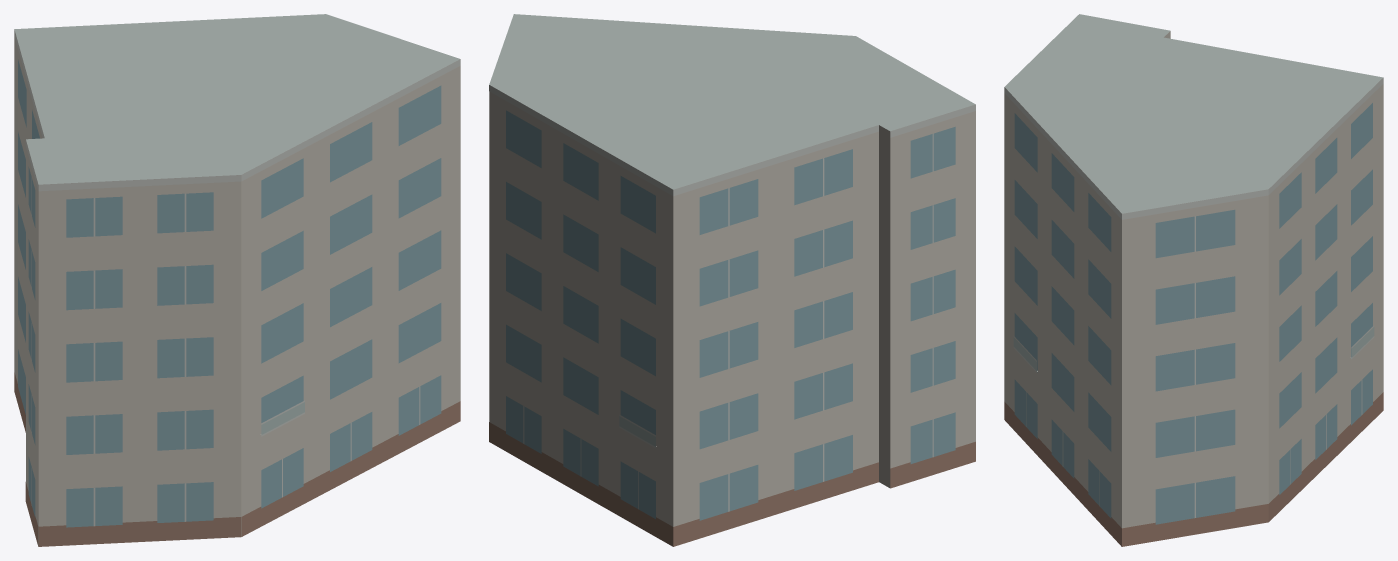
File: survey-upis-32532134.glb
3 views of the same model, side by side, from view 1: azimuth 30°, elevation 25°; view 2: azimuth 150°, elevation 25°; view 3: azimuth 270°, elevation 25° (orthographic). The views are drawn at different scales.
Visible parts, largest first — view 1: survey-upis-32532134.tmp; view 2: survey-upis-32532134.tmp; view 3: survey-upis-32532134.tmp.
Part boxes in pixels (x1,y1,x2,y2): survey-upis-32532134.tmp: (14,14,460,546); survey-upis-32532134.tmp: (489,14,975,546); survey-upis-32532134.tmp: (1004,14,1383,546).
Bounding box in the file's own units: 17.19 × 13.35 × 13.78.
